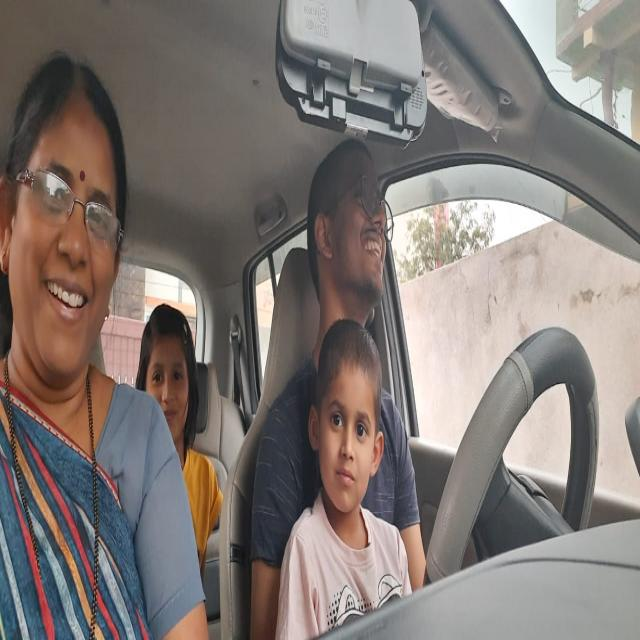child: (312, 318, 387, 515)
person: (2, 70, 127, 377), (311, 148, 395, 304), (145, 303, 202, 436)
